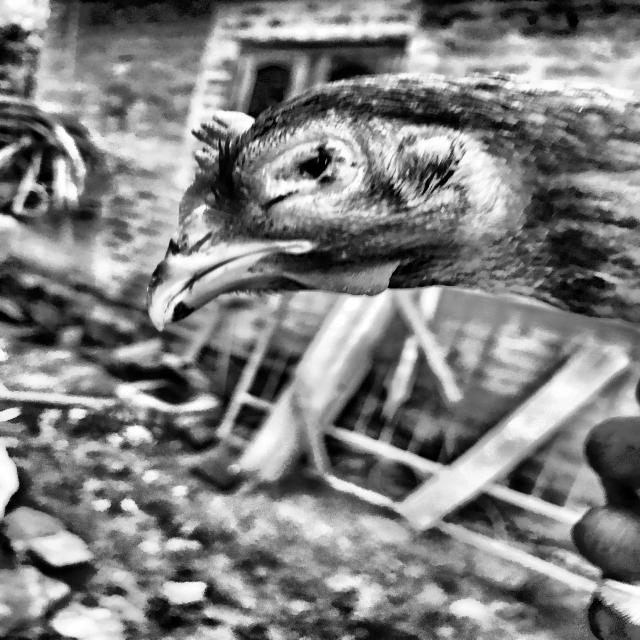Coryza: (119, 59, 640, 396)
